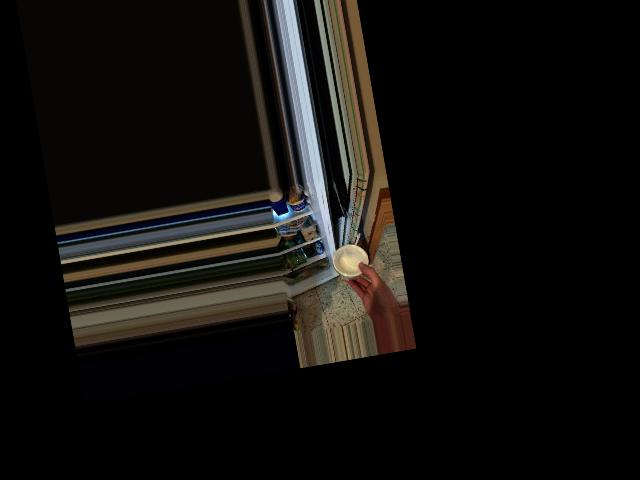cotage: (328, 237, 368, 279)
